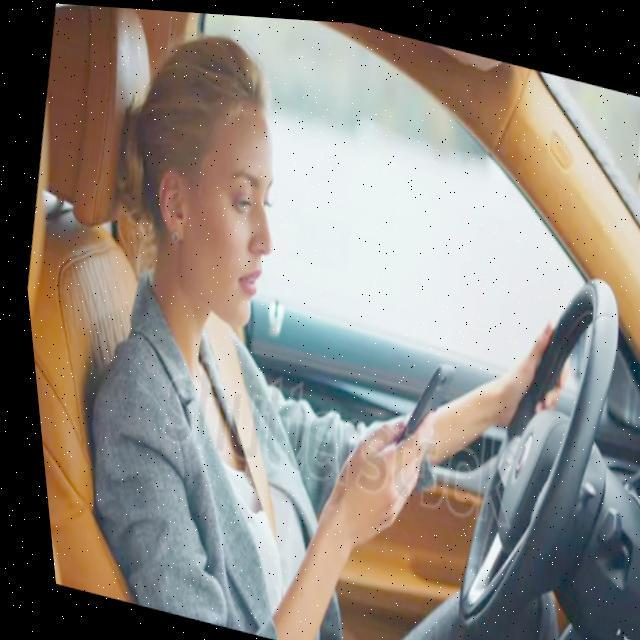PhoneCall: (373, 344, 459, 462)
